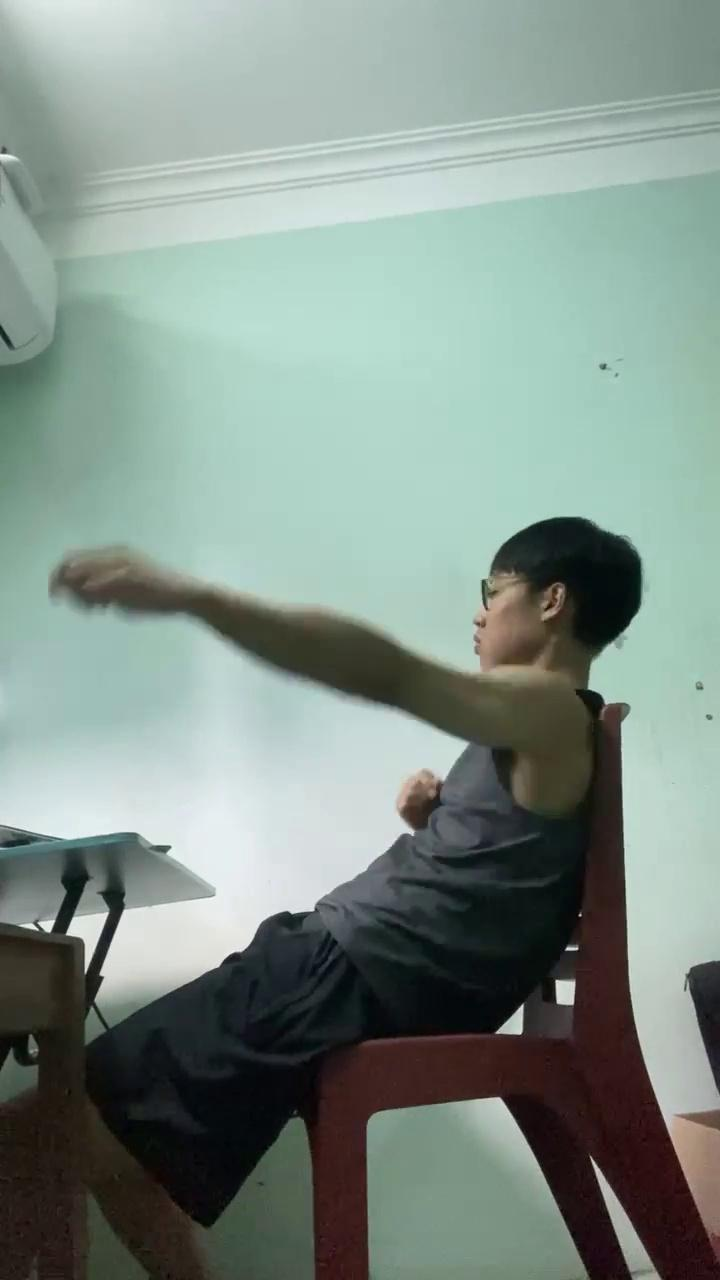BadPosture: (5, 521, 645, 1259)
